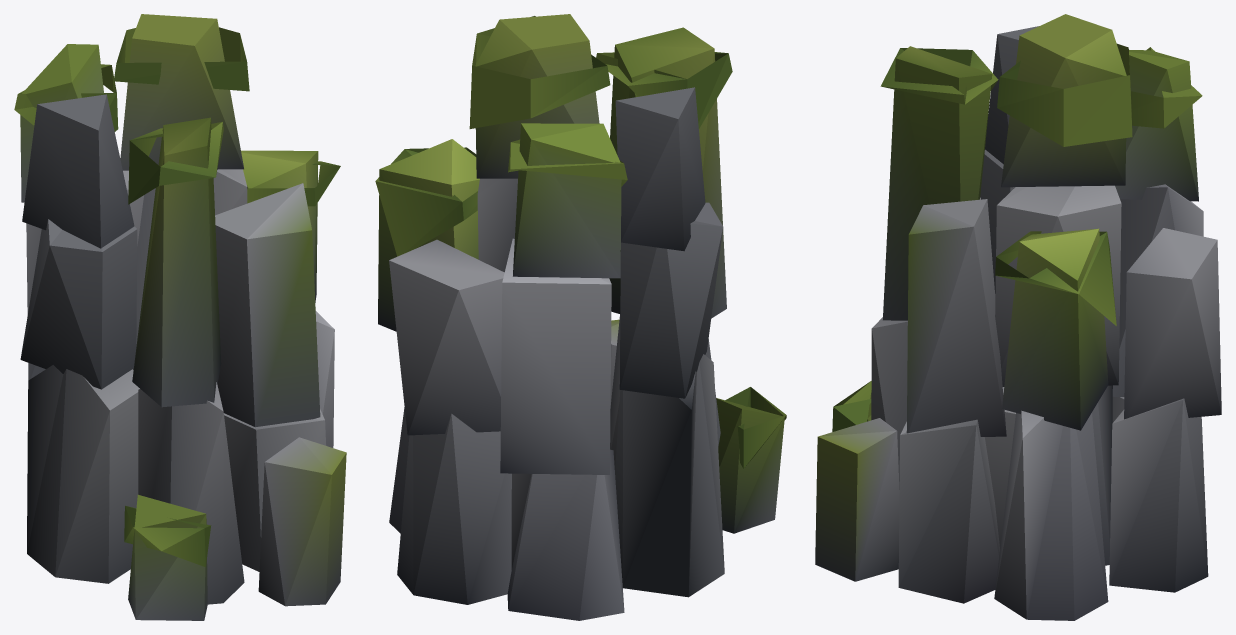
File: wf_basalt_columns-lod1.glb
3 renders of one model, left to right at view 1: azimuth 30°, elevation 25°; view 2: azimuth 150°, elevation 25°; view 3: azimuth 270°, elevation 25°, orthographic. The views are drawn at different scales.
Visible parts, largest first — view 1: wf_basalt_columns; view 2: wf_basalt_columns; view 3: wf_basalt_columns.
Boxes of the visible parts, x1,y1,x2,y2 form: wf_basalt_columns: (14, 14, 346, 620); wf_basalt_columns: (375, 14, 786, 620); wf_basalt_columns: (815, 14, 1221, 620).
Bounding box in the file's own units: 4.43 × 7.01 × 5.03.
